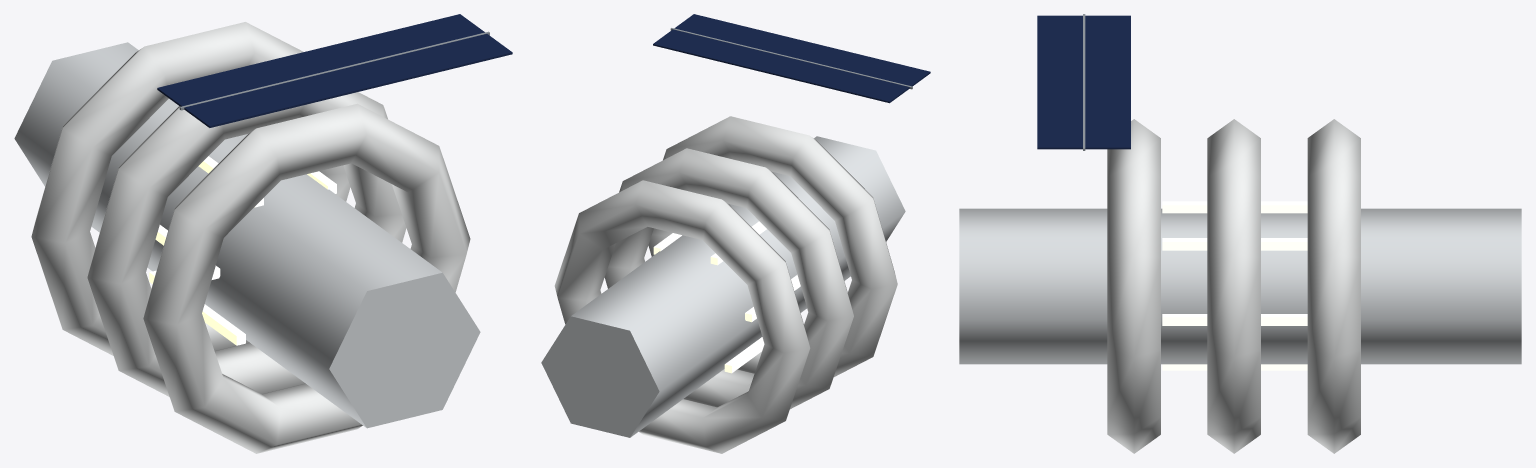
File: space_orbital_habitat_t3_lod1.glb
3 renders of one model, left to right at view 1: azimuth 30°, elevation 25°; view 2: azimuth 150°, elevation 25°; view 3: azimuth 270°, elevation 25°, orthographic. The views are drawn at different scales.
Parts seen in each view (by area): view 1: body, solar_0; view 2: body, solar_0; view 3: body, solar_0.
Boxes of the visible parts, x1,y1,x2,y2 form: body: [14, 22, 480, 453]; solar_0: [157, 14, 512, 127]; body: [541, 116, 905, 453]; solar_0: [653, 14, 930, 103]; body: [959, 119, 1521, 453]; solar_0: [1037, 14, 1130, 150].
Bounding box in the file's own units: 10.8 × 12.38 × 18.
